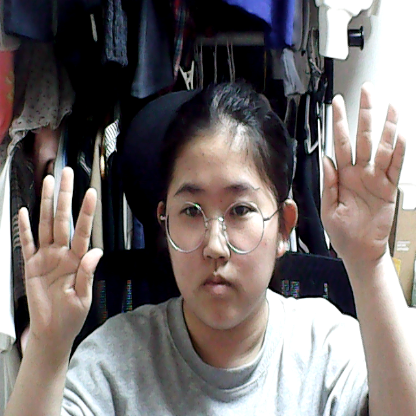Finger_5: (315, 83, 416, 276), (11, 154, 101, 364)
